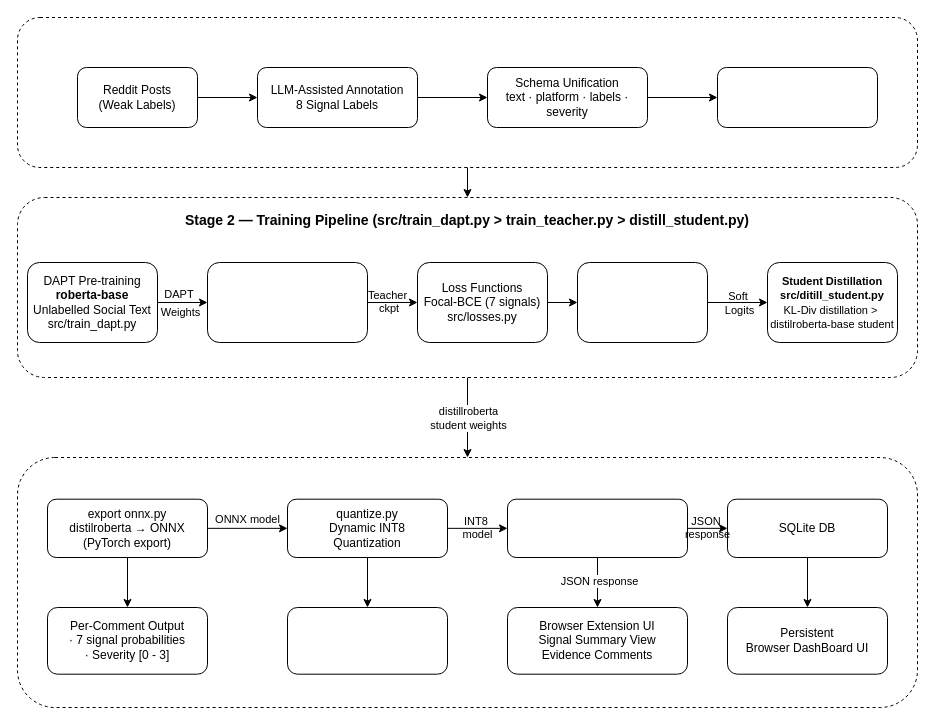
Some shapes in this 935 by 725 pixel diagram are drawn without their labels. Each missing label, with the box of its shape:
Author-Isolated Train / Val / Test Splits: (716, 66, 878, 128)
inference.py / Flask API POST /api/v2/analyze/comments ONNX Runtime (CPU): (506, 498, 688, 558)
Page-Level Summary · Top signals · Evidence comments · Uncertain state: (286, 606, 448, 674)
Stage 1 — Data Pipeline (annotate_data/): (16, 16, 918, 168)
Stage 3 — Deployment (src/export_onnx.py > quantize.py > inference.py): (16, 456, 918, 708)
Teacher Fine-tuning roberta-base (len 512) Task: Signal src/train_teacher.py: (206, 262, 368, 342)
Temperature Scaling src/calibrate.py Experiment Tracking MLflow (src/mteric.py): (576, 262, 708, 342)
